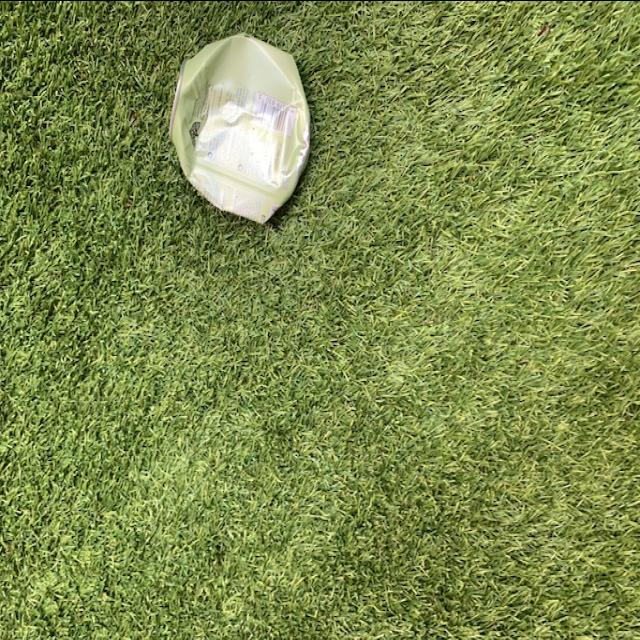litter: (164, 31, 313, 221)
